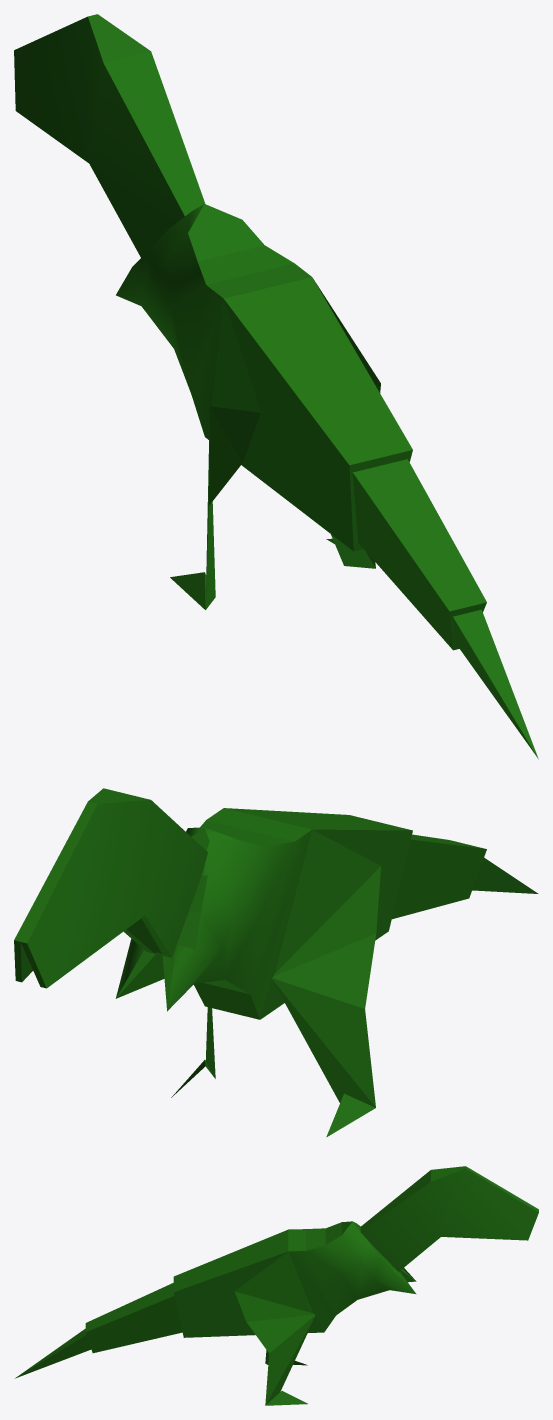
Rendered from Ground_TRex_Export.FBX.
3 renders of one model, top to bottom at view 1: azimuth 30°, elevation 25°; view 2: azimuth 150°, elevation 25°; view 3: azimuth 270°, elevation 25°, orthographic. The views are drawn at different scales.
Visible parts, largest first — view 1: TRex_Body, TRex_Head; view 2: TRex_Body, TRex_Head; view 3: TRex_Body, TRex_Head.
Boxes of the visible parts, x1,y1,x2,y2 form: TRex_Body: (116, 204, 538, 759); TRex_Head: (14, 14, 205, 257); TRex_Body: (115, 808, 538, 1137); TRex_Head: (14, 788, 207, 988); TRex_Body: (15, 1221, 416, 1405); TRex_Head: (360, 1166, 538, 1271).
Size of the model in its own units: 44.88 by 108 by 236.
